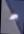Squash-Ball: (1, 0, 24, 34)
